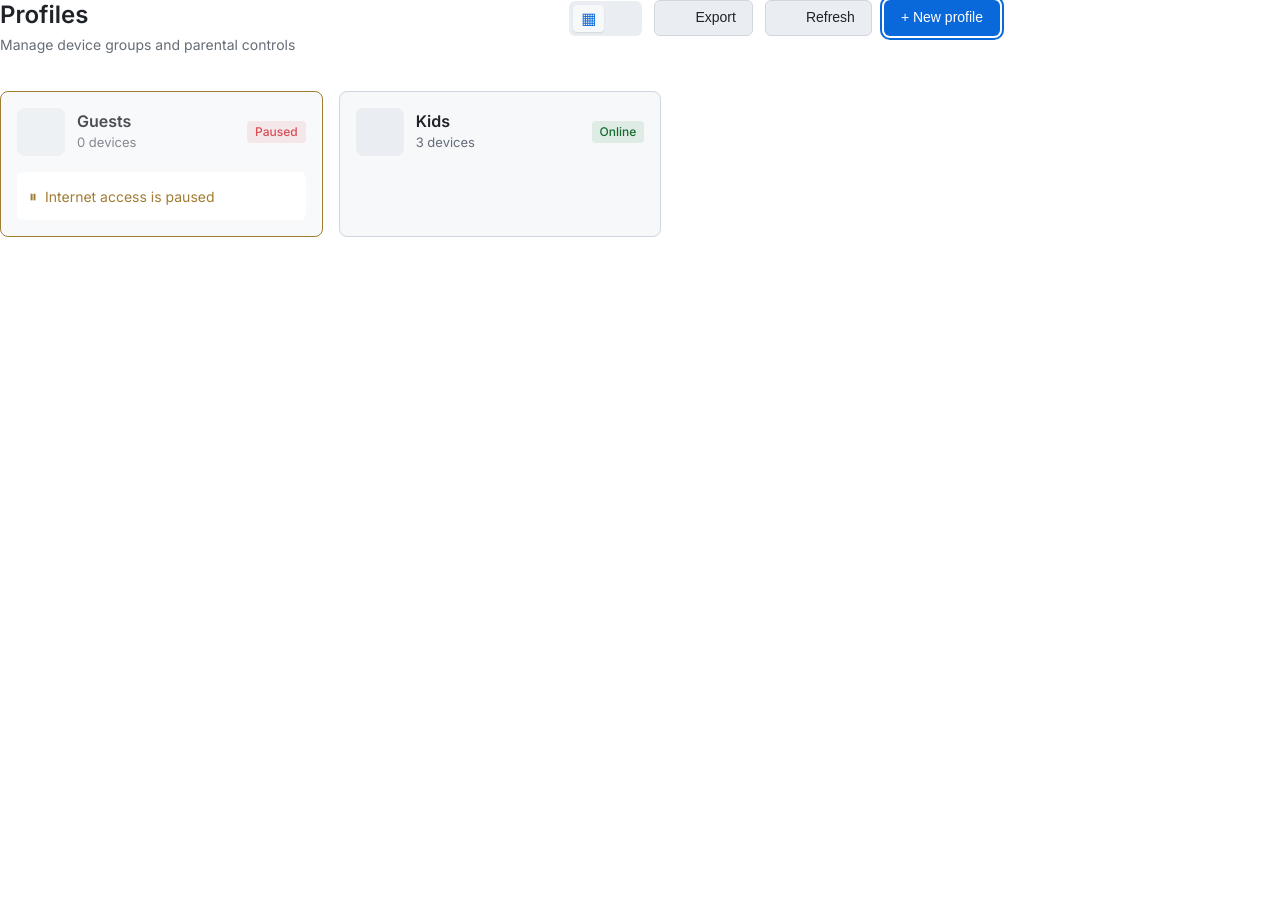
Test case: profiles page - create profile dialog › opens as a labelled dialog with focus moved to the name field
This screenshot has width=1280, height=900.
Expected: the heading "Kids" is shown, x1=416 y1=111 x2=450 y2=131
Click the button "+ New profile".
click(942, 18)  # box x1=884 y1=0 x2=1000 y2=36
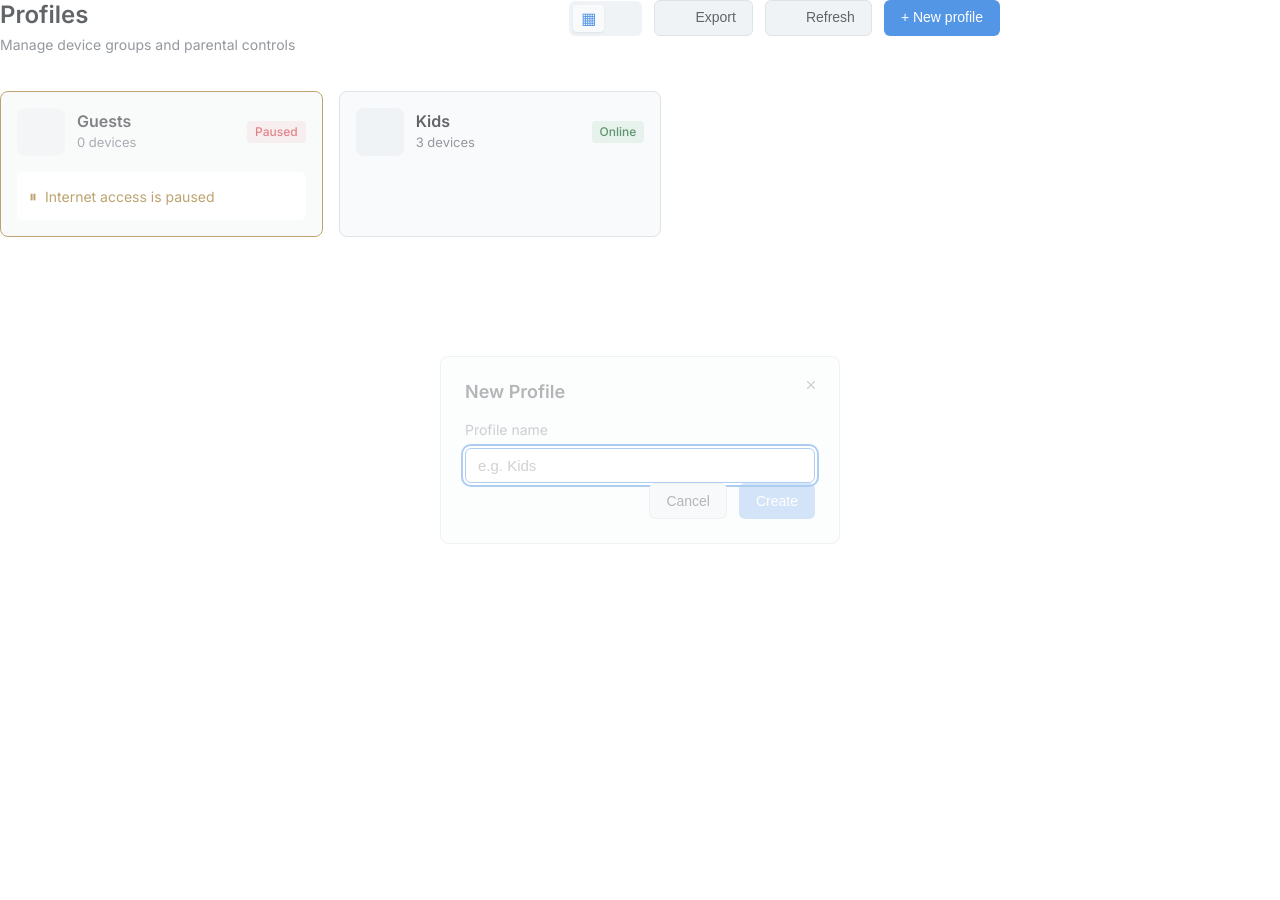
Expected: the dialog is shown, x1=440 y1=356 x2=840 y2=544
